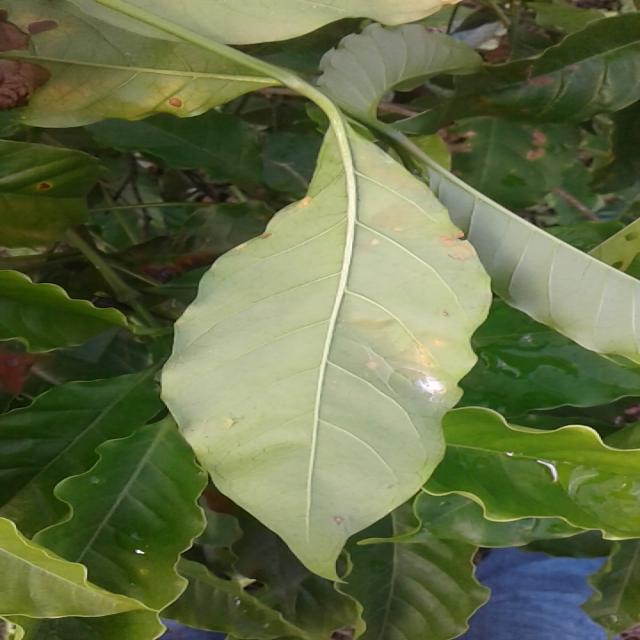Enfermedad-Roya: (159, 70, 493, 572)
